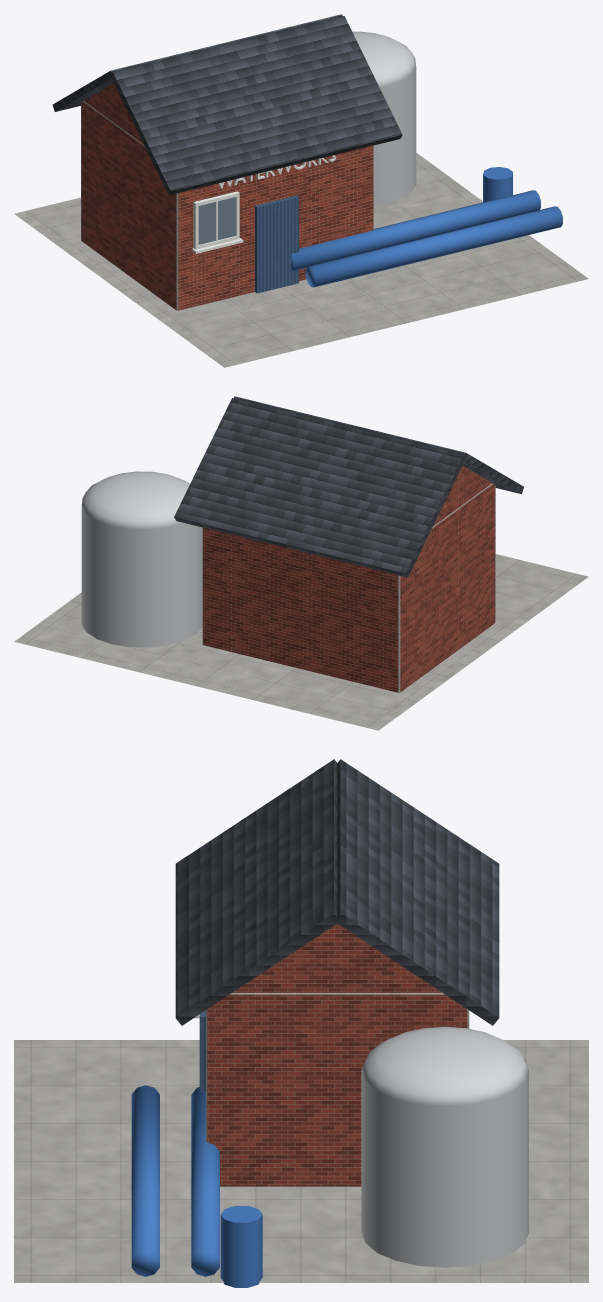
File: pump.gltf
3 views of the same model, one above another, from view 1: azimuth 30°, elevation 25°; view 2: azimuth 150°, elevation 25°; view 3: azimuth 270°, elevation 25° (orthographic). The views are drawn at different scales.
Parts seen in each view (by area): view 1: pump; view 2: pump; view 3: pump.
Boxes of the visible parts, x1,y1,x2,y2 form: pump: (14, 14, 588, 367); pump: (14, 396, 588, 730); pump: (14, 759, 588, 1287).
Size of the model in its own units: 2.01 by 1.05 by 1.92.
8 materials, 4 textured.
